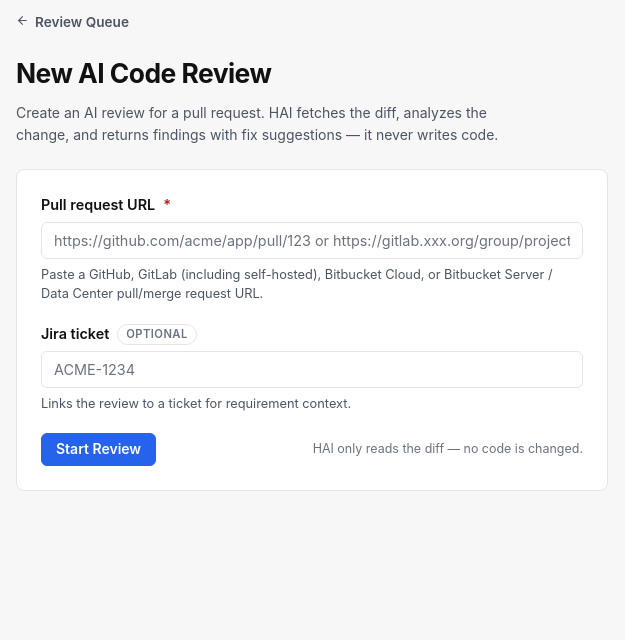
Scenario: NewReviewPage › includes a Jira ticket when one is provided
Replace the text in the field labelled "Pull request URL *" with "https://github.com/acme/app/pull/123": (312, 240) left=41, top=222, right=583, bottom=259
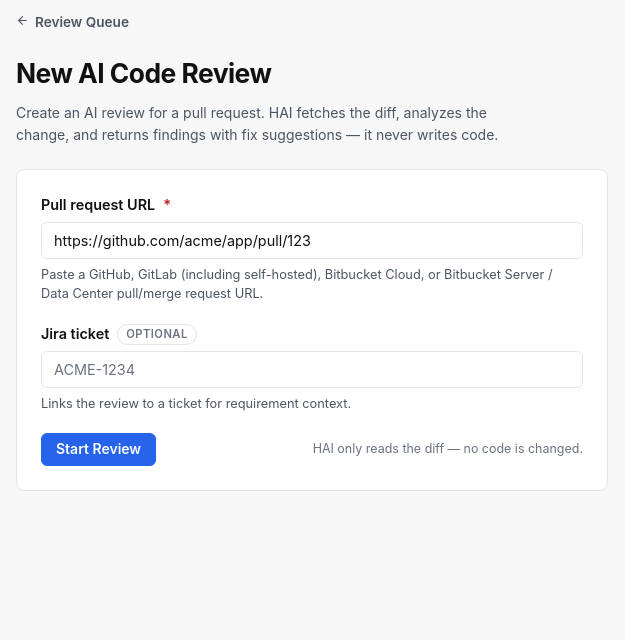
In the field labelled "Jira ticket Optional": (312, 370) left=41, top=351, right=583, bottom=388, type "ACME-42"
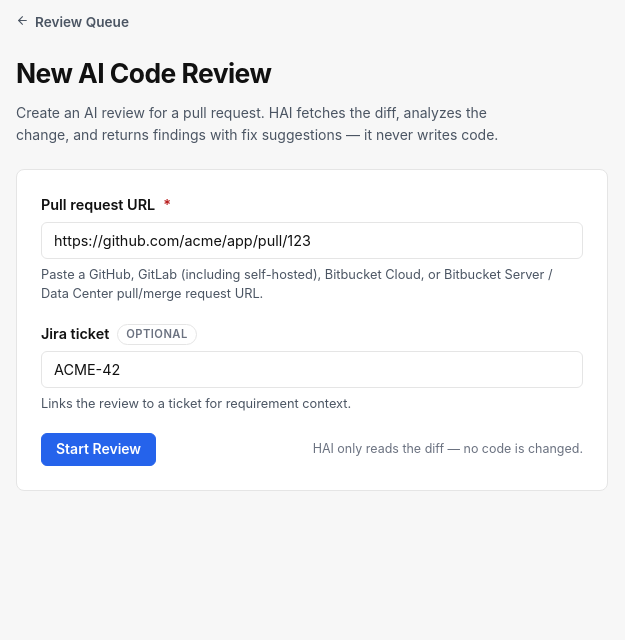
Click the button "Start Review": (99, 450) left=41, top=433, right=156, bottom=466
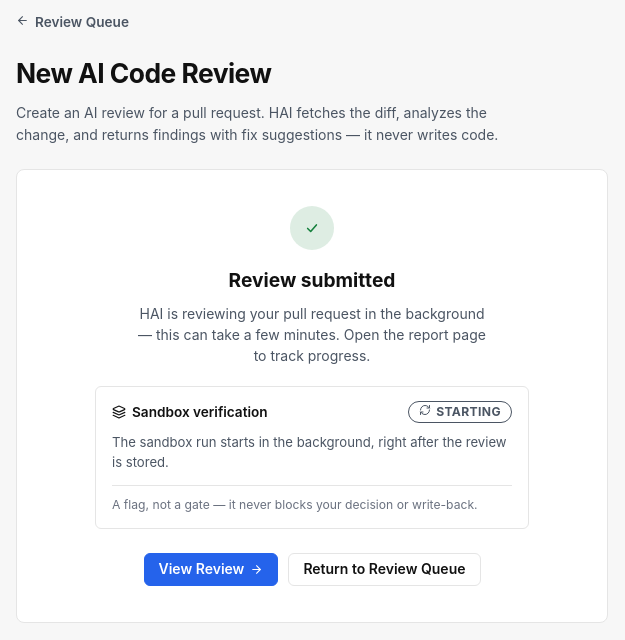
Check: the heading "Review submitted" is shown, box left=229, top=268, right=396, bottom=292
